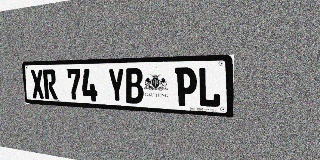4: (81, 69, 98, 102)
7: (66, 69, 82, 101)
B: (125, 68, 144, 104)
L: (198, 67, 221, 108)
P: (175, 67, 197, 107)
R: (43, 69, 58, 100)
X: (30, 69, 45, 99)
Y: (107, 68, 126, 103)
